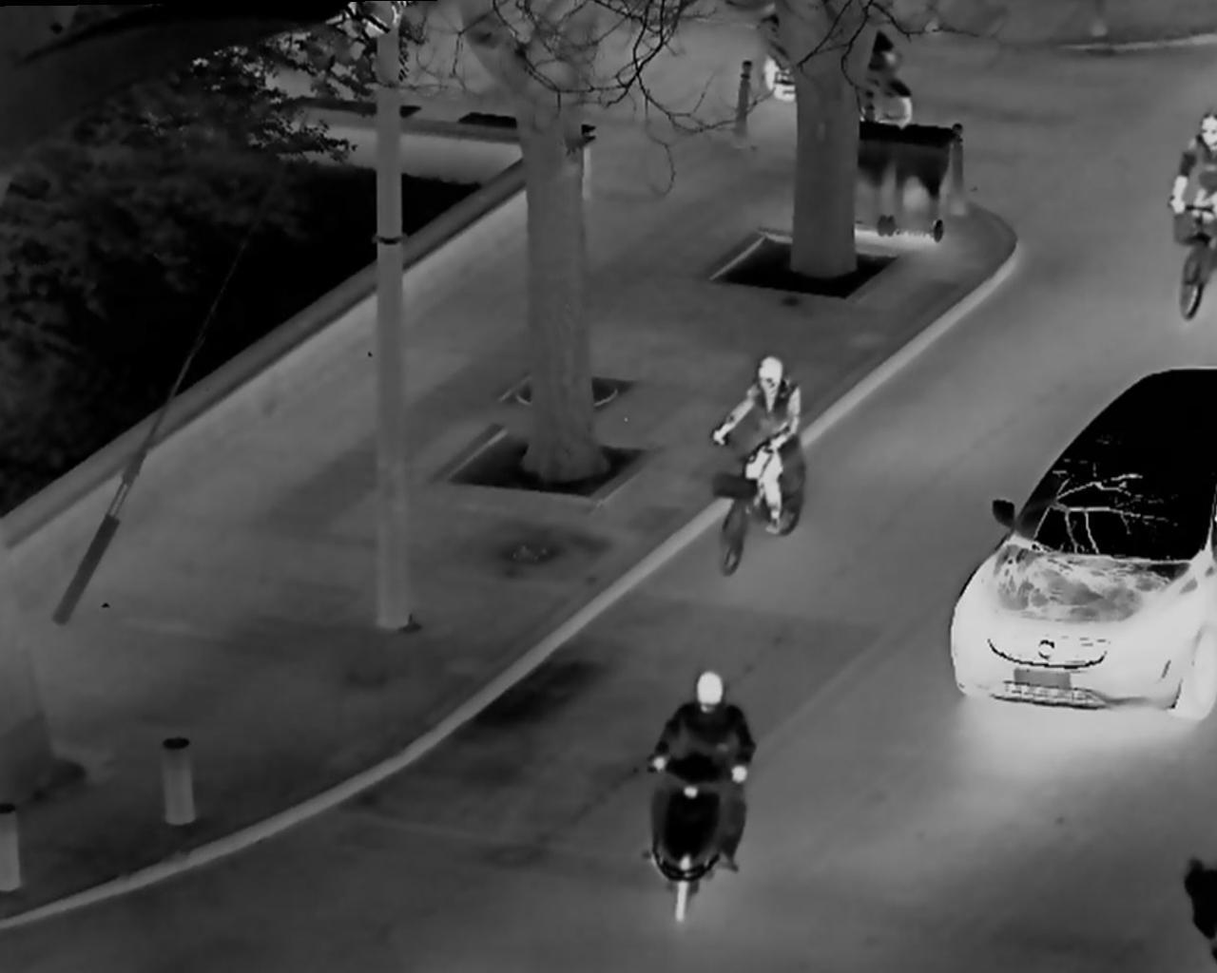person: (641, 655, 776, 899), (706, 344, 837, 582), (1163, 104, 1217, 297)
